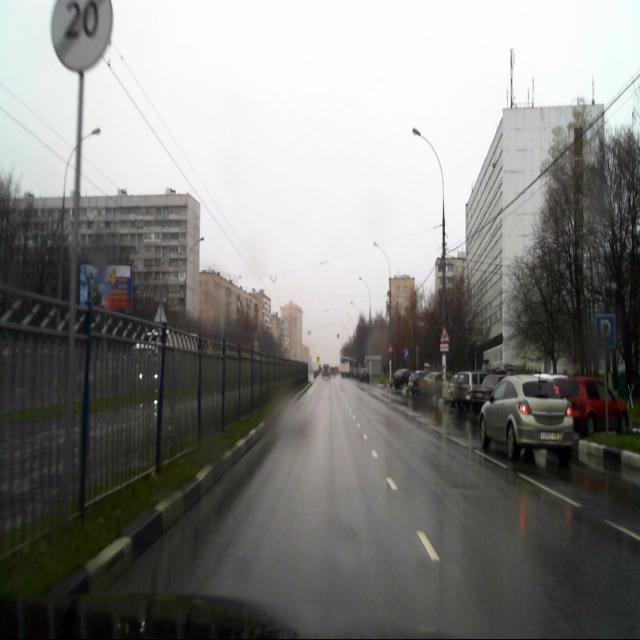road sign: (596, 314, 615, 348), (440, 326, 450, 343)
